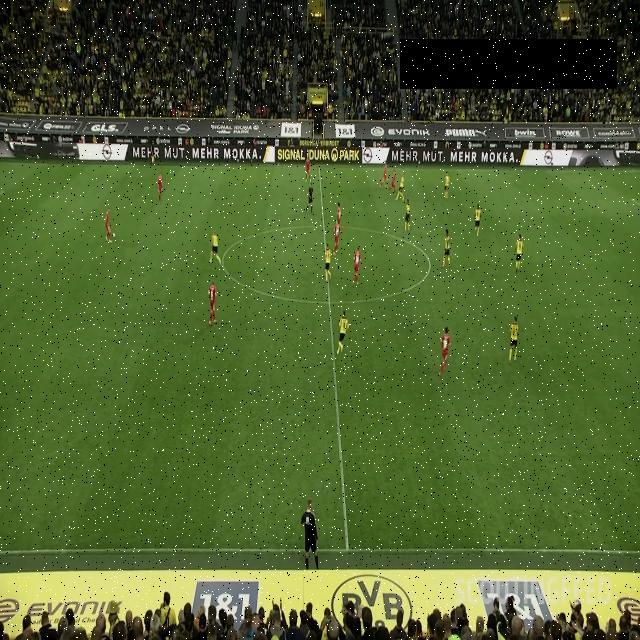Ball: (112, 232, 116, 238)
Referee: (304, 182, 314, 214), (150, 138, 156, 164)
TEAM 1: (438, 326, 452, 378), (207, 280, 218, 328), (352, 246, 362, 286), (332, 202, 342, 236), (104, 206, 112, 244), (333, 220, 341, 254), (379, 163, 389, 189), (304, 156, 312, 184), (389, 170, 397, 194), (157, 172, 163, 202)
TEAM 2: (508, 316, 520, 364), (336, 310, 349, 354), (208, 230, 222, 264), (441, 228, 452, 268), (514, 232, 524, 274), (324, 242, 332, 282), (395, 172, 405, 202), (474, 203, 482, 237), (404, 198, 411, 232), (444, 170, 451, 200)
